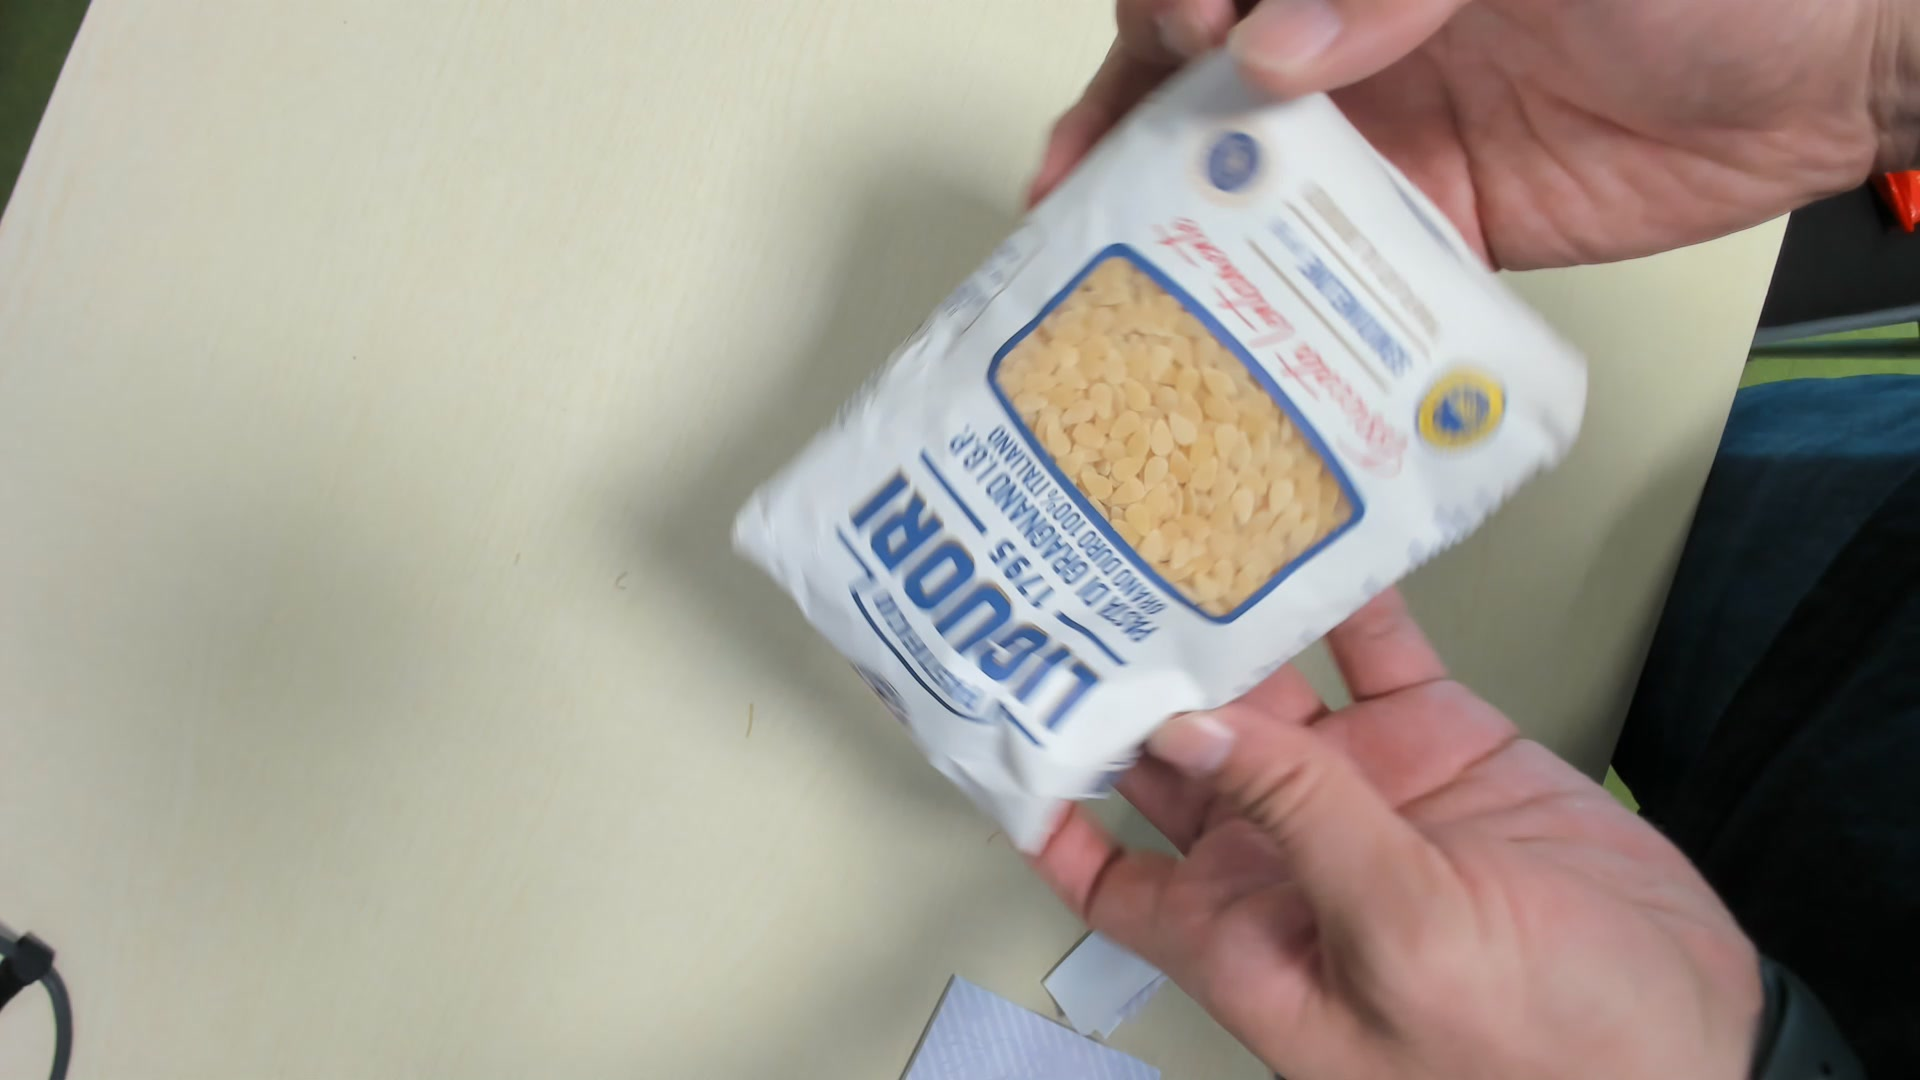Pasta_500-599g_NonHalal_NonHealthy: (720, 41, 1580, 843)
